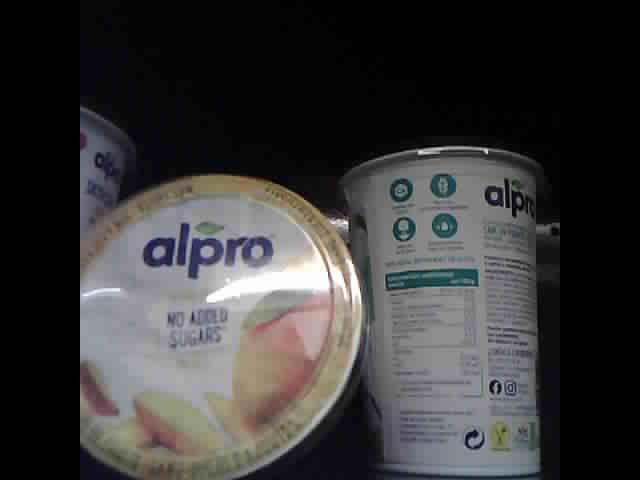alpro: (81, 173, 373, 480), (338, 137, 546, 480), (79, 100, 132, 239)
